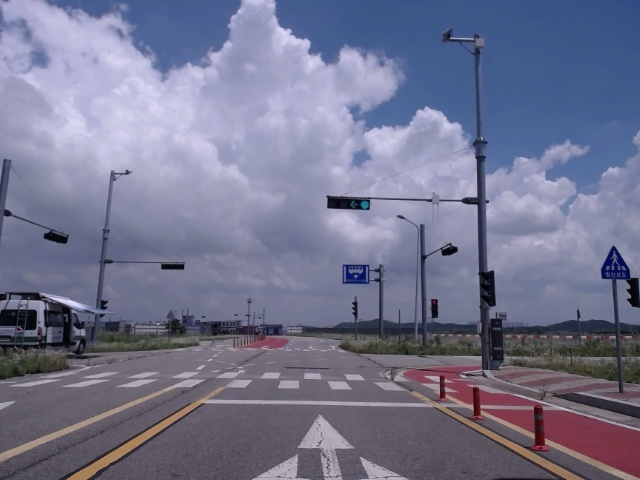all_green_4: (327, 194, 370, 210)
